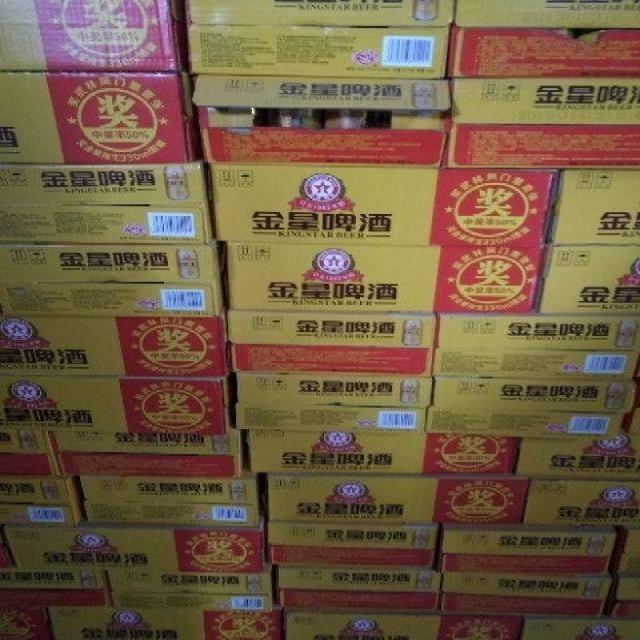box: (213, 167, 559, 246), (193, 76, 451, 168), (228, 245, 543, 314), (187, 0, 455, 80), (0, 71, 203, 165), (449, 78, 640, 168), (1, 162, 213, 243), (0, 245, 224, 316), (265, 473, 531, 529), (449, 1, 640, 78), (0, 316, 235, 376), (425, 375, 639, 439), (433, 316, 640, 382), (229, 313, 439, 378), (1, 377, 232, 434), (248, 429, 516, 476), (235, 373, 431, 433), (4, 529, 264, 574), (80, 472, 263, 527), (48, 429, 248, 476), (265, 522, 437, 573), (441, 572, 611, 619), (277, 568, 441, 614), (441, 533, 616, 576), (51, 608, 284, 640), (537, 247, 640, 316), (551, 168, 640, 247), (112, 573, 275, 612), (525, 480, 640, 534), (284, 615, 524, 639), (517, 439, 640, 481), (0, 569, 113, 610), (0, 475, 85, 525), (0, 430, 60, 476), (521, 621, 640, 640)
